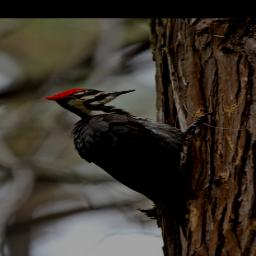Woodpecker: (42, 88, 215, 238)
